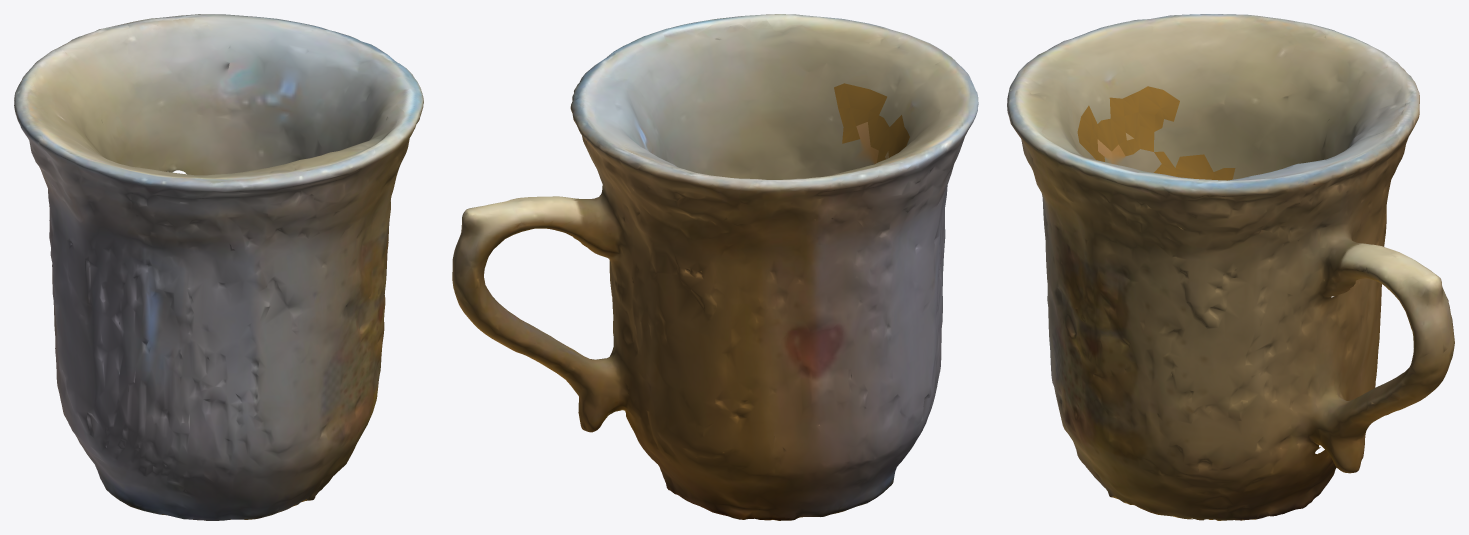
File: marina-mug.glb
3 views of the same model, side by side, from view 1: azimuth 30°, elevation 25°; view 2: azimuth 150°, elevation 25°; view 3: azimuth 270°, elevation 25° (orthographic).
Bounding box in the file's own units: 0.9589 × 0.8813 × 0.9401.
Materials: 3 (3 with a texture image).
